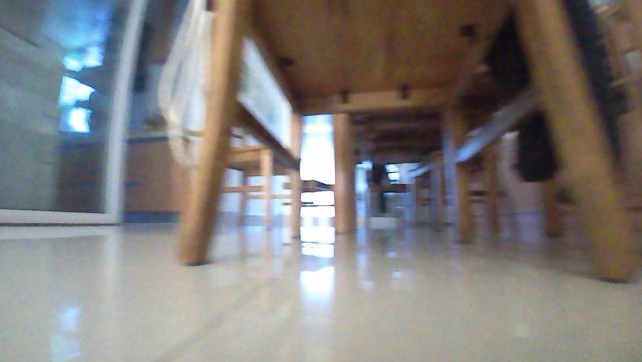dining_table1: (160, 0, 641, 281)
